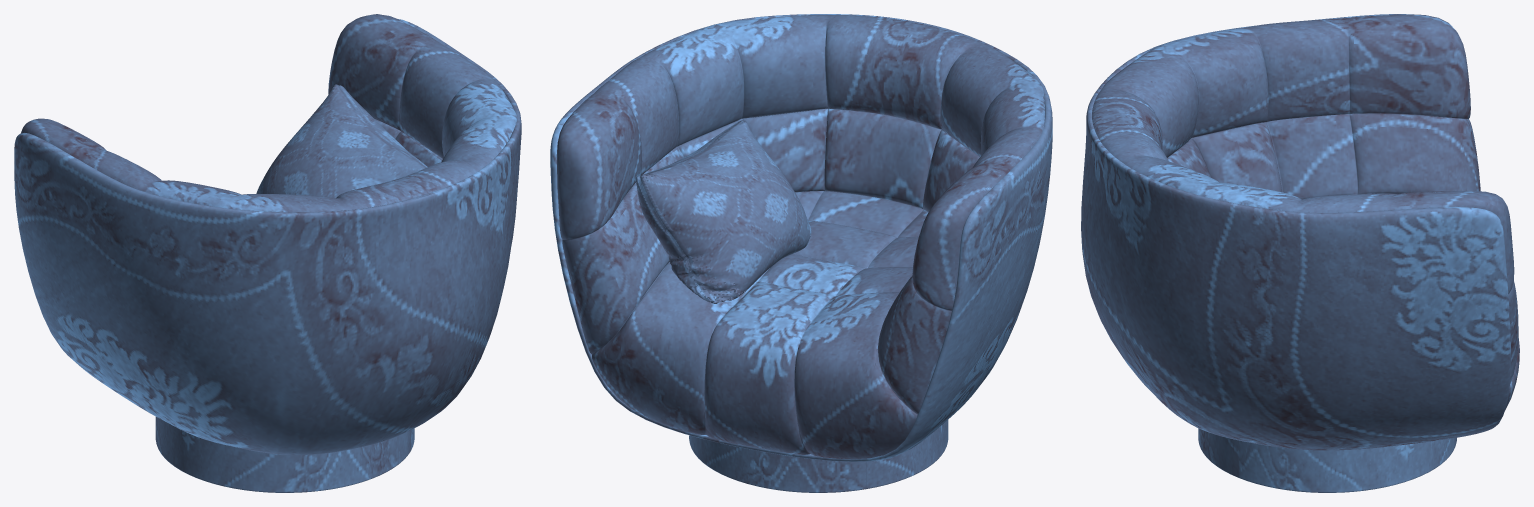
3 views of the same model, side by side, from view 1: azimuth 30°, elevation 25°; view 2: azimuth 150°, elevation 25°; view 3: azimuth 270°, elevation 25° (orthographic).
Visible parts, largest first — view 1: Pillow; view 2: Pillow; view 3: Pillow.
Part boxes in pixels (x1,y1,x2,y2): Pillow: [14, 14, 521, 492]; Pillow: [550, 14, 1052, 492]; Pillow: [1081, 14, 1519, 492].
Size of the model in its own units: 6.22 by 4.68 by 5.66.
1 material, 1 textured.
